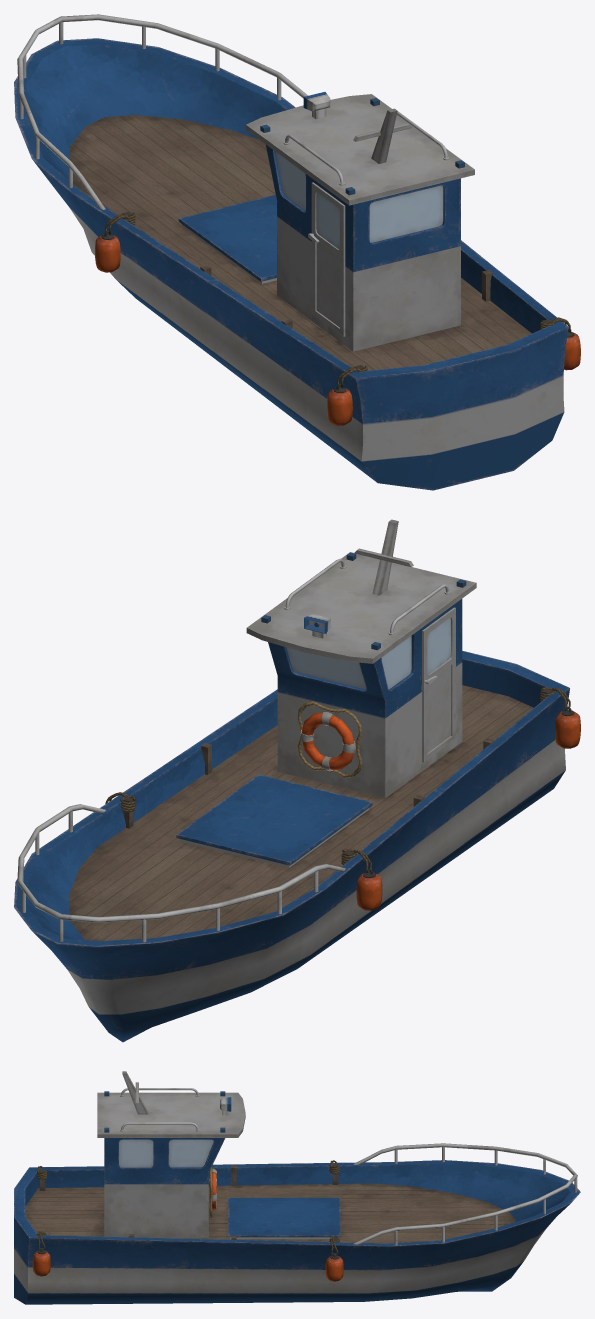
Rendered from DD_Fishing_Boat_A.FBX.
3 renders of one model, top to bottom at view 1: azimuth 30°, elevation 25°; view 2: azimuth 150°, elevation 25°; view 3: azimuth 270°, elevation 25°, orthographic. The views are drawn at different scales.
Visible parts, largest first — view 1: DD_Fishing_Boat_A; view 2: DD_Fishing_Boat_A; view 3: DD_Fishing_Boat_A.
Boxes of the visible parts, box(x1,y1,x2,y2) form: DD_Fishing_Boat_A: box(14, 14, 580, 490); DD_Fishing_Boat_A: box(14, 519, 580, 1042); DD_Fishing_Boat_A: box(14, 1071, 580, 1304).
Bounding box in the file's own units: 618 × 1568 × 669.
